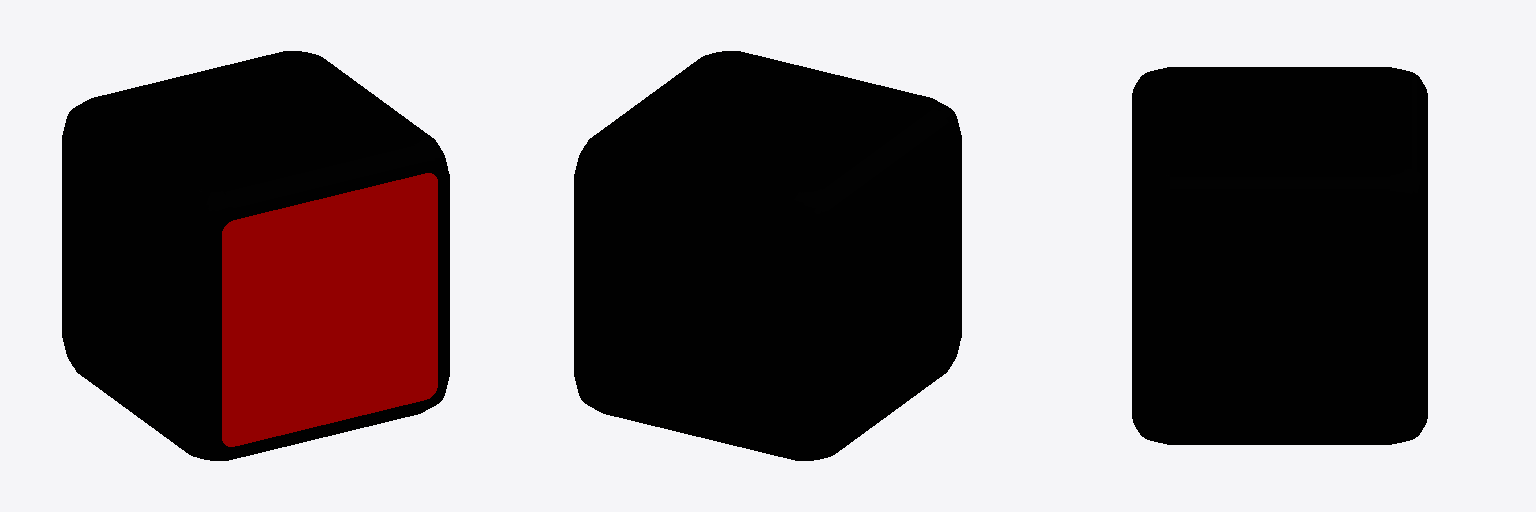
File: edge_ry.obj
The picture shows the model from 3 angles: view 1: azimuth 30°, elevation 25°; view 2: azimuth 150°, elevation 25°; view 3: azimuth 270°, elevation 25°; orthographic projection.
Parts seen in each view (by area): view 1: Cube; view 2: Cube; view 3: Cube.
Boxes of the visible parts, <box> form: Cube: <box>62,51,449,460</box>; Cube: <box>574,51,961,460</box>; Cube: <box>1132,67,1427,444</box>.
Size of the model in its own units: 2 by 2 by 2.